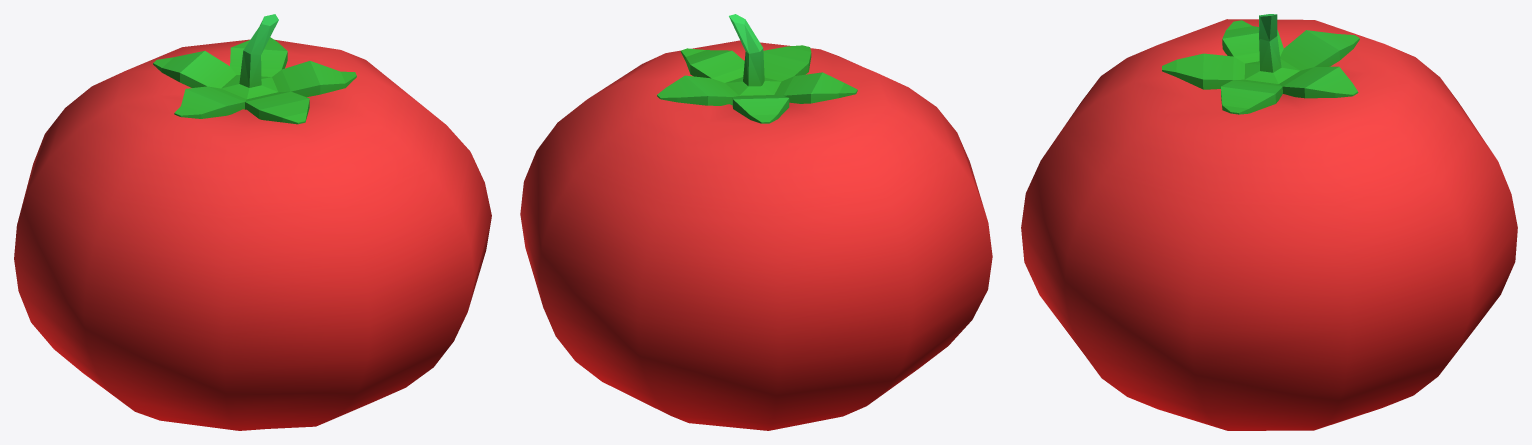
Rendered from tomato.fbx.
3 renders of one model, left to right at view 1: azimuth 30°, elevation 25°; view 2: azimuth 150°, elevation 25°; view 3: azimuth 270°, elevation 25°, orthographic. The views are drawn at different scales.
Visible parts, largest first — view 1: tomato; view 2: tomato; view 3: tomato.
Boxes of the visible parts, x1,y1,x2,y2 form: tomato: [14, 14, 491, 430]; tomato: [520, 14, 992, 430]; tomato: [1021, 14, 1517, 430].
Size of the model in its own units: 113 by 103 by 115.
